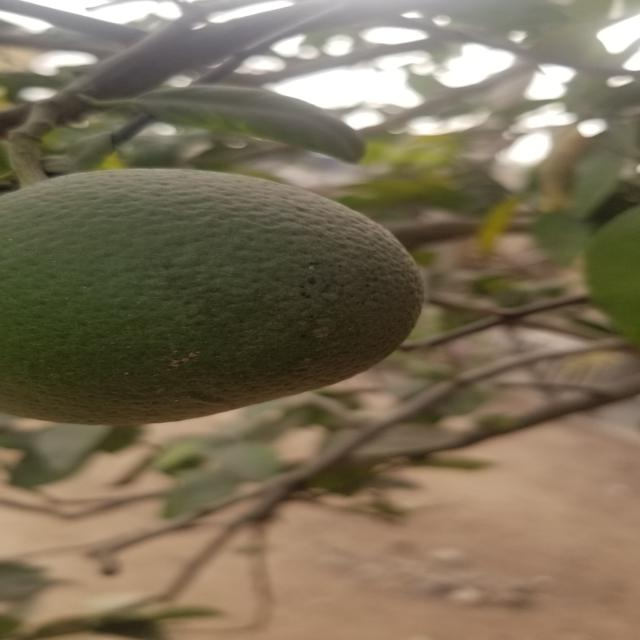Unripe: (0, 163, 415, 424)
